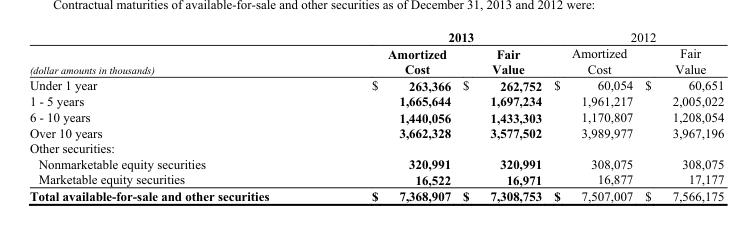table: (28, 29, 723, 202)
table column: (28, 29, 319, 202), (319, 29, 456, 202), (456, 29, 547, 202), (547, 29, 638, 202), (638, 29, 723, 202)
table column header: (28, 29, 723, 76)
table projected row header: (28, 140, 723, 155)
table row: (28, 44, 723, 76), (28, 76, 723, 92), (28, 92, 723, 108), (28, 108, 723, 124), (28, 124, 723, 140), (28, 155, 723, 171), (28, 171, 723, 187), (28, 29, 723, 44), (28, 140, 723, 155), (28, 187, 723, 202)
table spanning cell: (28, 29, 319, 76), (319, 29, 547, 44), (547, 29, 723, 44)
